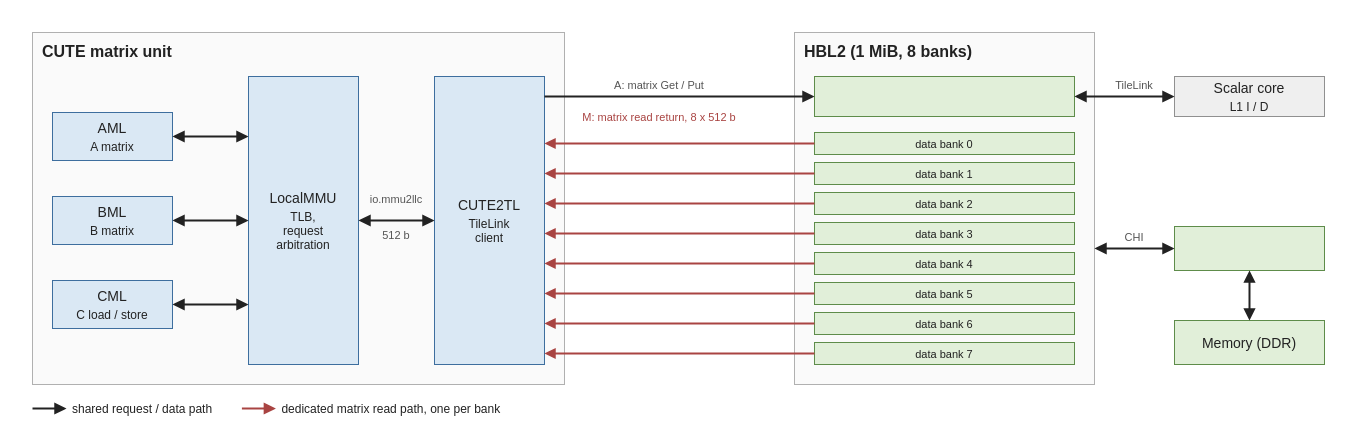
The diagram is 1357 pixels wide and 448 high, and some of its shapes have lost their labels. Here are the shapes that lost their labels. From the top down, the centre of each, then its label:
At point 944,96: "Request pipeline / MSHR".
At point 1249,248: "External LLC".
